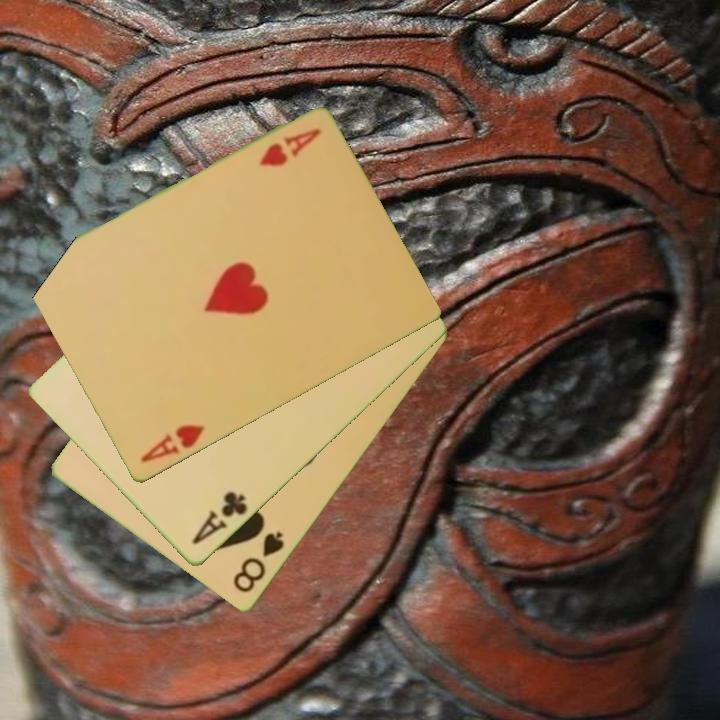8s: (229, 528, 288, 597)
Ac: (188, 488, 250, 549)
Ah: (136, 421, 207, 466), (255, 125, 323, 171)
